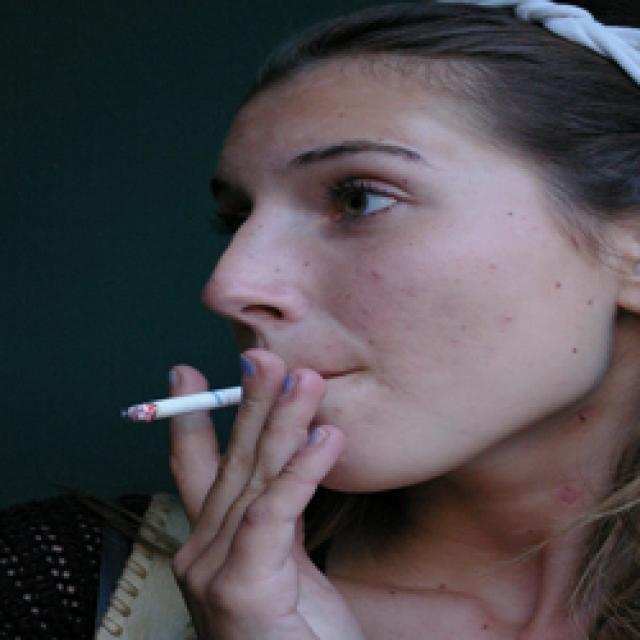Smooking: (103, 388, 259, 436)
